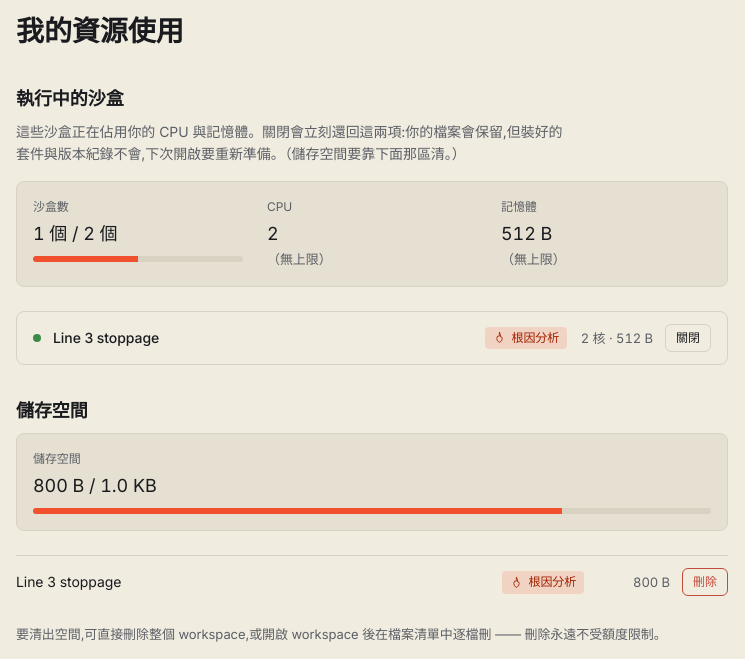
Test: MyResourcesPage › closes an environment and refetches, so the freed slot is visible
Click the button "關閉": [688, 338] box x1=665 y1=324 x2=711 y2=352
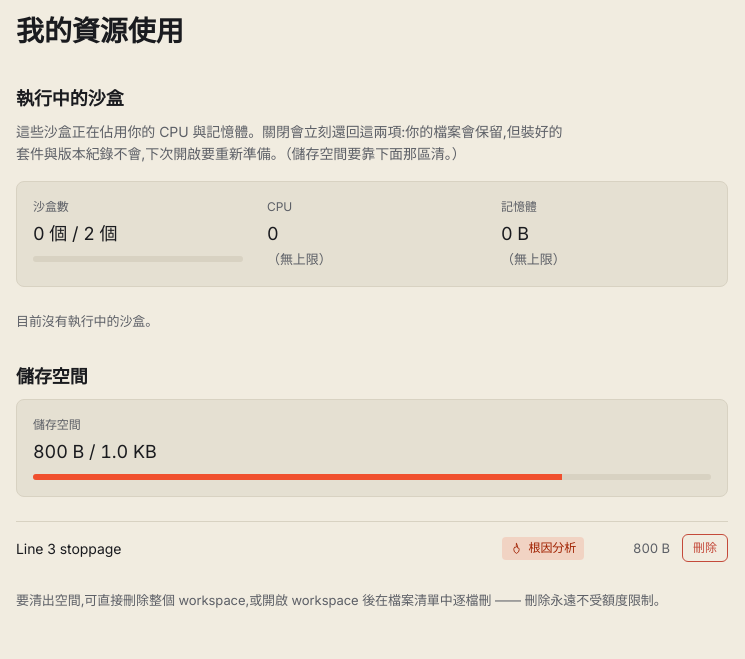
Result: the text "目前沒有執行中的沙盒。" is shown at x1=16 y1=313 x2=158 y2=329
